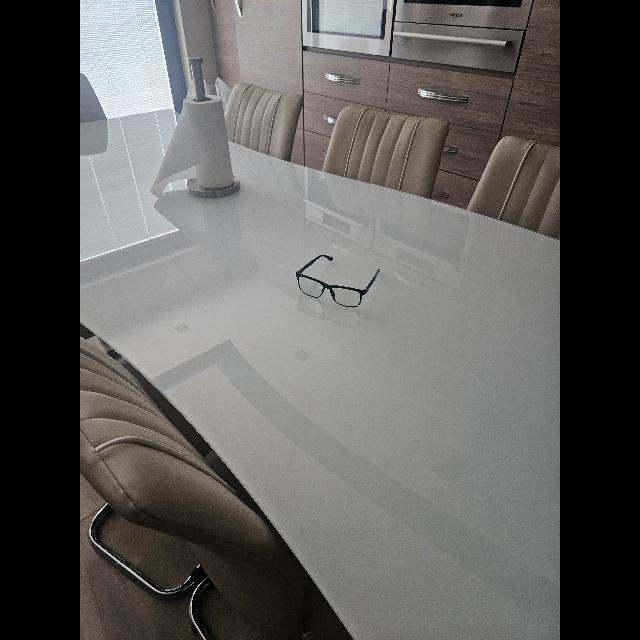glasses: (296, 255, 380, 308)
